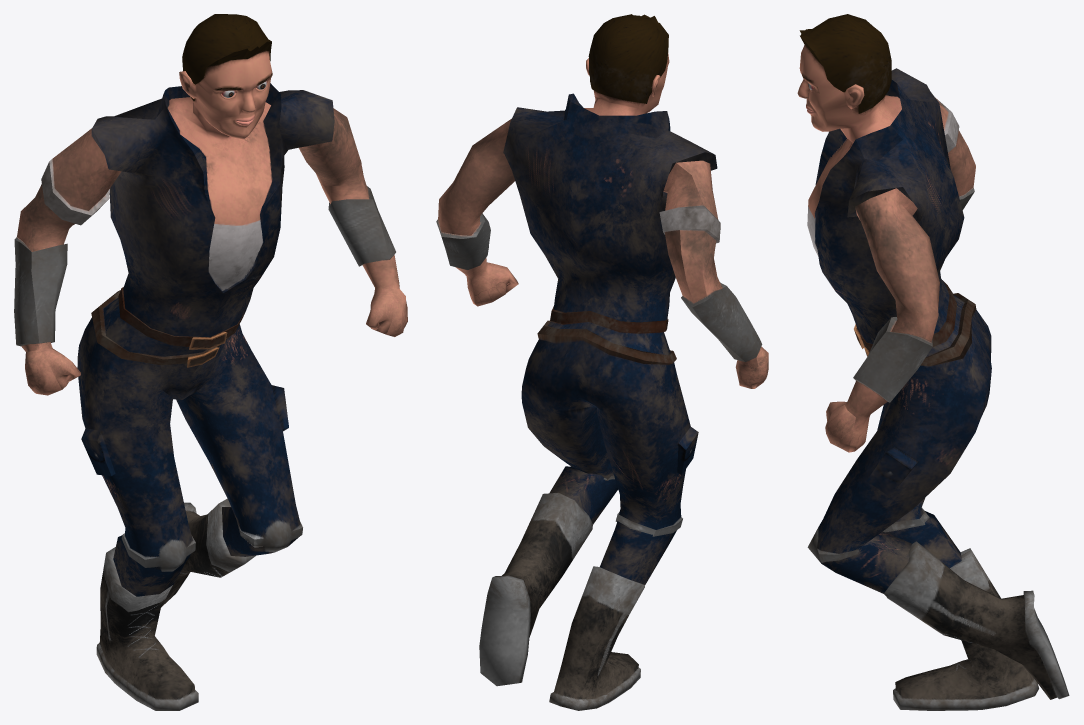
The model's file is Anim_correr_jugador.0033.obj.
The picture shows the model from 3 angles, left to right: view 1: azimuth 30°, elevation 25°; view 2: azimuth 150°, elevation 25°; view 3: azimuth 270°, elevation 25°; orthographic projection. The views are drawn at different scales.
Visible parts, largest first — view 1: Anim_correr_jugador; view 2: Anim_correr_jugador; view 3: Anim_correr_jugador.
Boxes of the visible parts, x1=… form: Anim_correr_jugador: x1=14, y1=14, x2=407, y2=710; Anim_correr_jugador: x1=436, y1=14, x2=768, y2=710; Anim_correr_jugador: x1=797, y1=14, x2=1069, y2=710.
Size of the model in its own units: 4.75 by 8.89 by 3.17.
2 materials, 2 textured.
